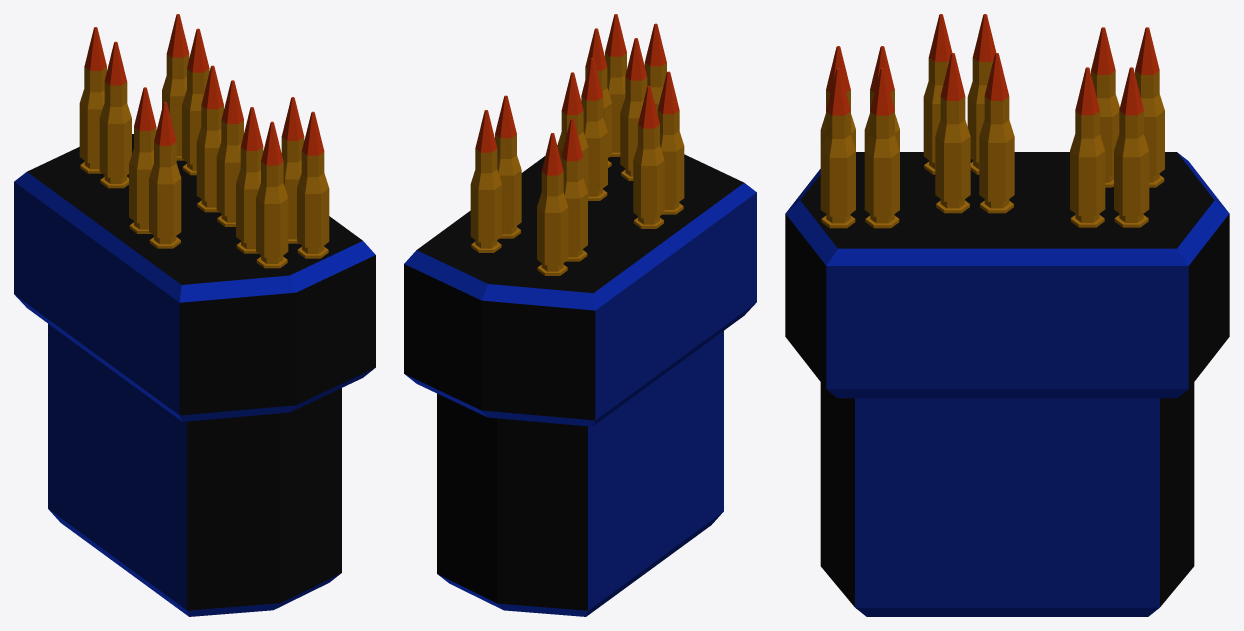
Rendered from ammo_762.glb.
3 renders of one model, left to right at view 1: azimuth 30°, elevation 25°; view 2: azimuth 150°, elevation 25°; view 3: azimuth 270°, elevation 25°, orthographic. The views are drawn at different scales.
Parts seen in each view (by area): view 1: item_ammo_762; view 2: item_ammo_762; view 3: item_ammo_762.
Part boxes in pixels (bbox=[...]): item_ammo_762: bbox=[14, 14, 375, 616]; item_ammo_762: bbox=[404, 14, 756, 616]; item_ammo_762: bbox=[785, 14, 1229, 616].
Bounding box in the file's own units: 0.1096 × 0.26 × 0.1964.
